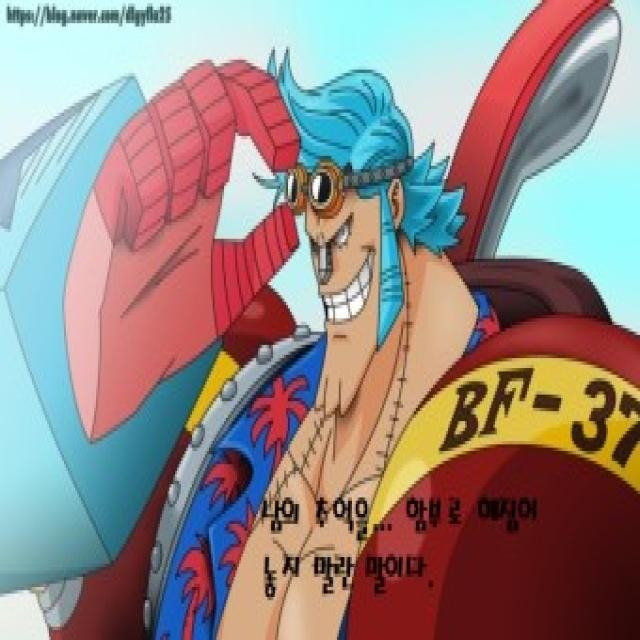Franky: (257, 39, 430, 435)
